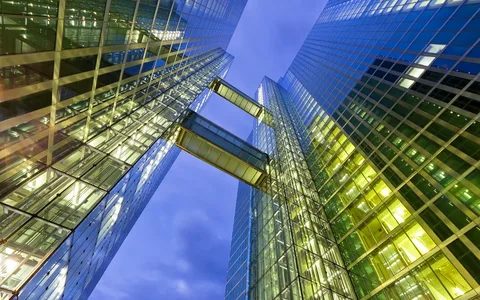high_rise_building: (235, 47, 361, 295), (136, 26, 231, 140)
